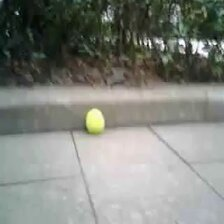tennis: (86, 109, 104, 133)
